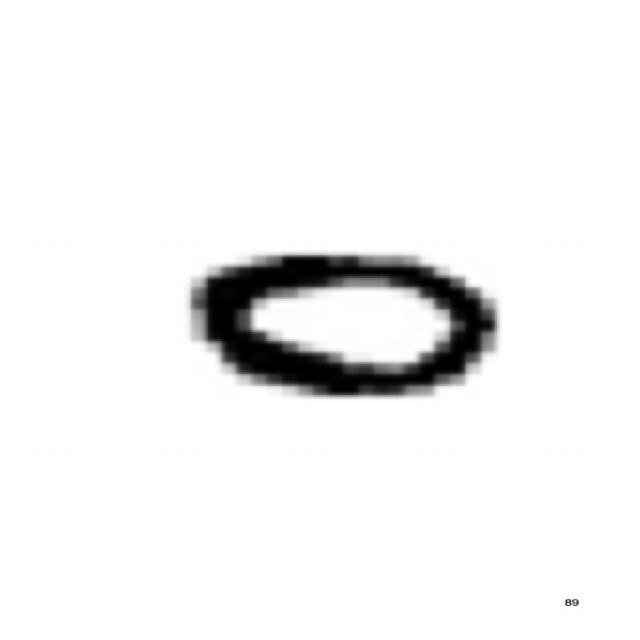5 -five-: (175, 238, 508, 406)
